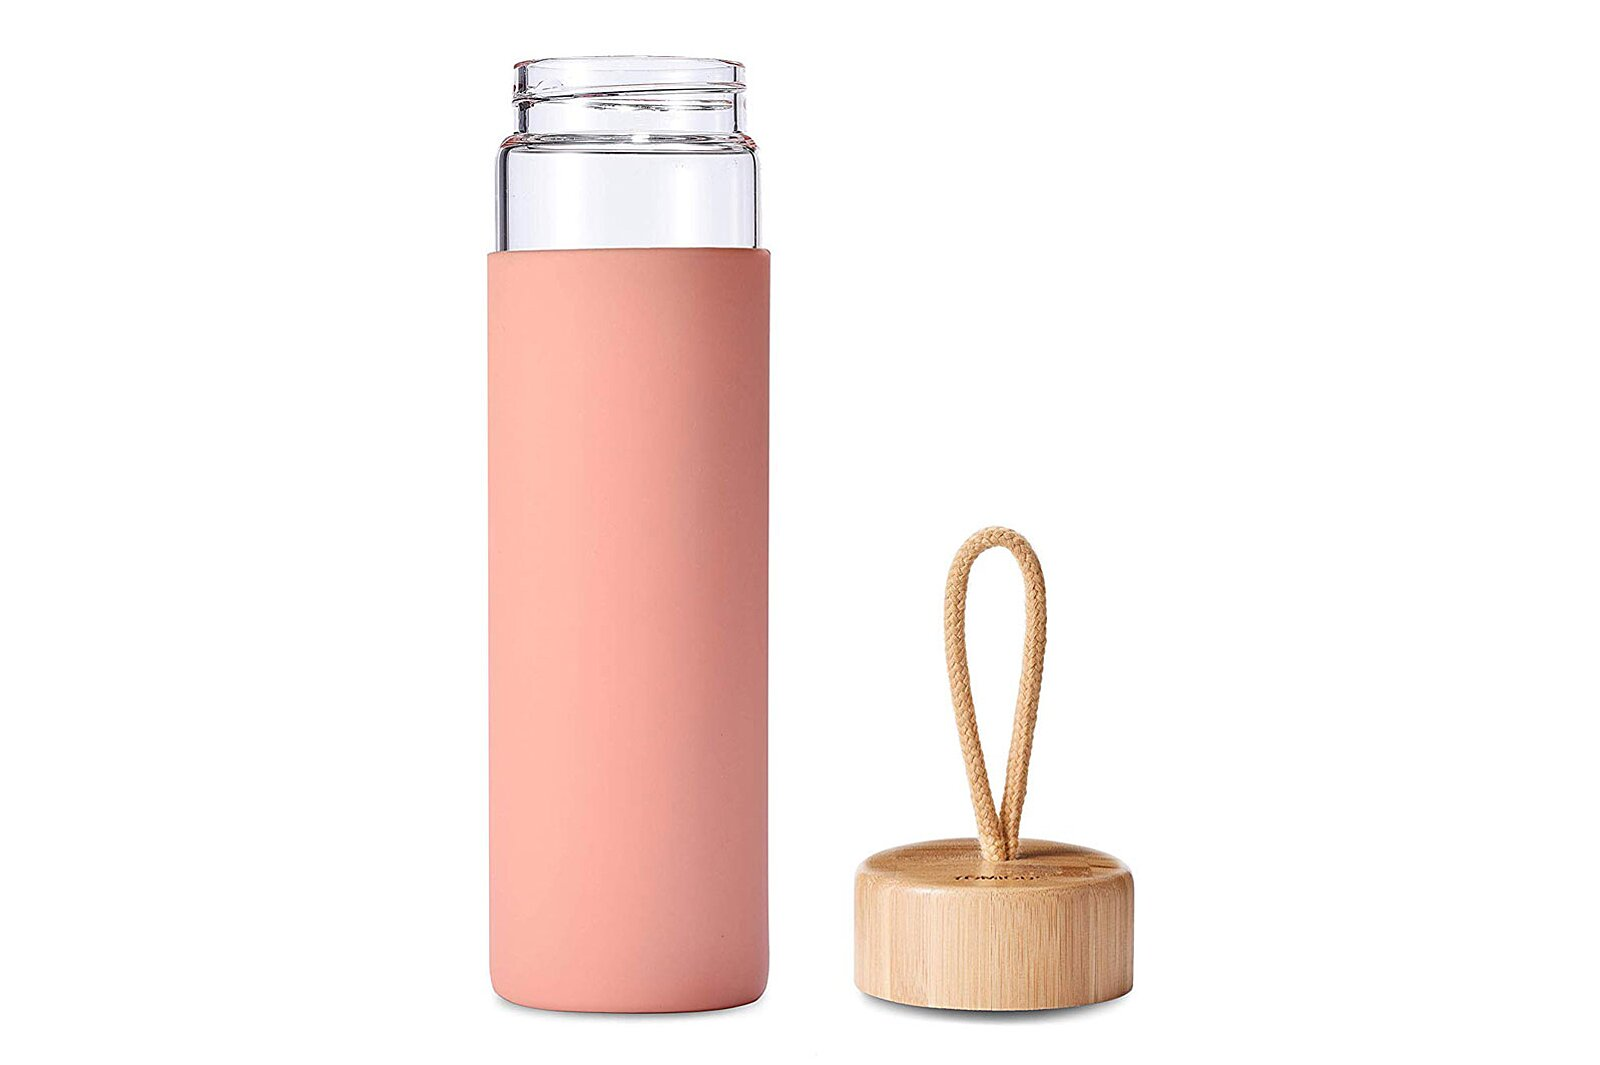glass_bottle: (479, 40, 786, 1026)
